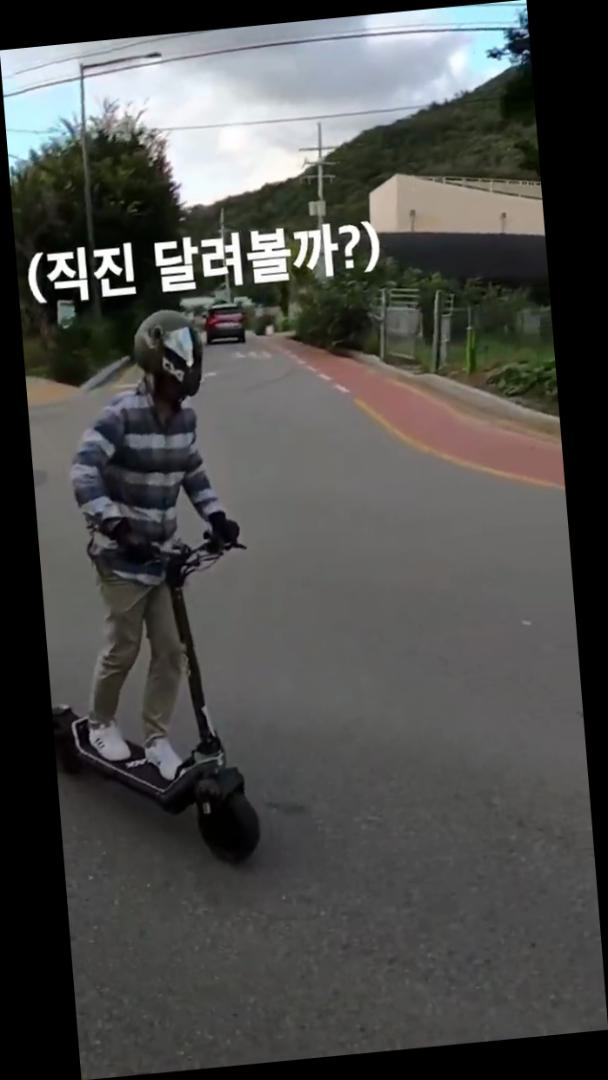helmet: (22, 302, 276, 883)
